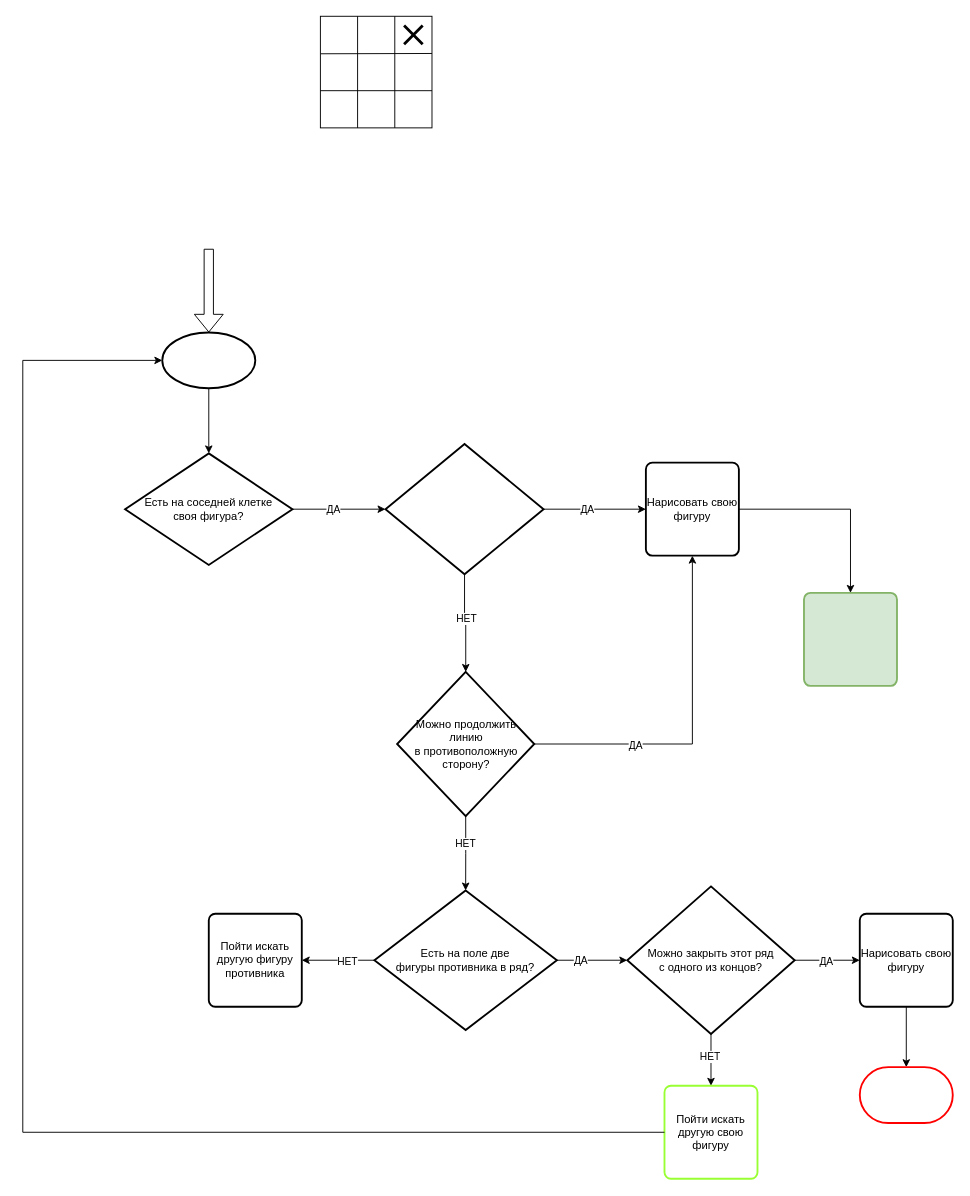
Image size: 970x1196. Some labels were removed from this diagram. Here are the shapes that lost their labels. From the top down, the centre of each, then its label:
the point at 208,360: Найдена своя фигура
the point at 464,509: Можно продолжить линию в эту сторону?
the point at 850,638: ВЫИГРЫШ КОМПЬЮТЕРА
the point at 905,1094: Завершить ход
